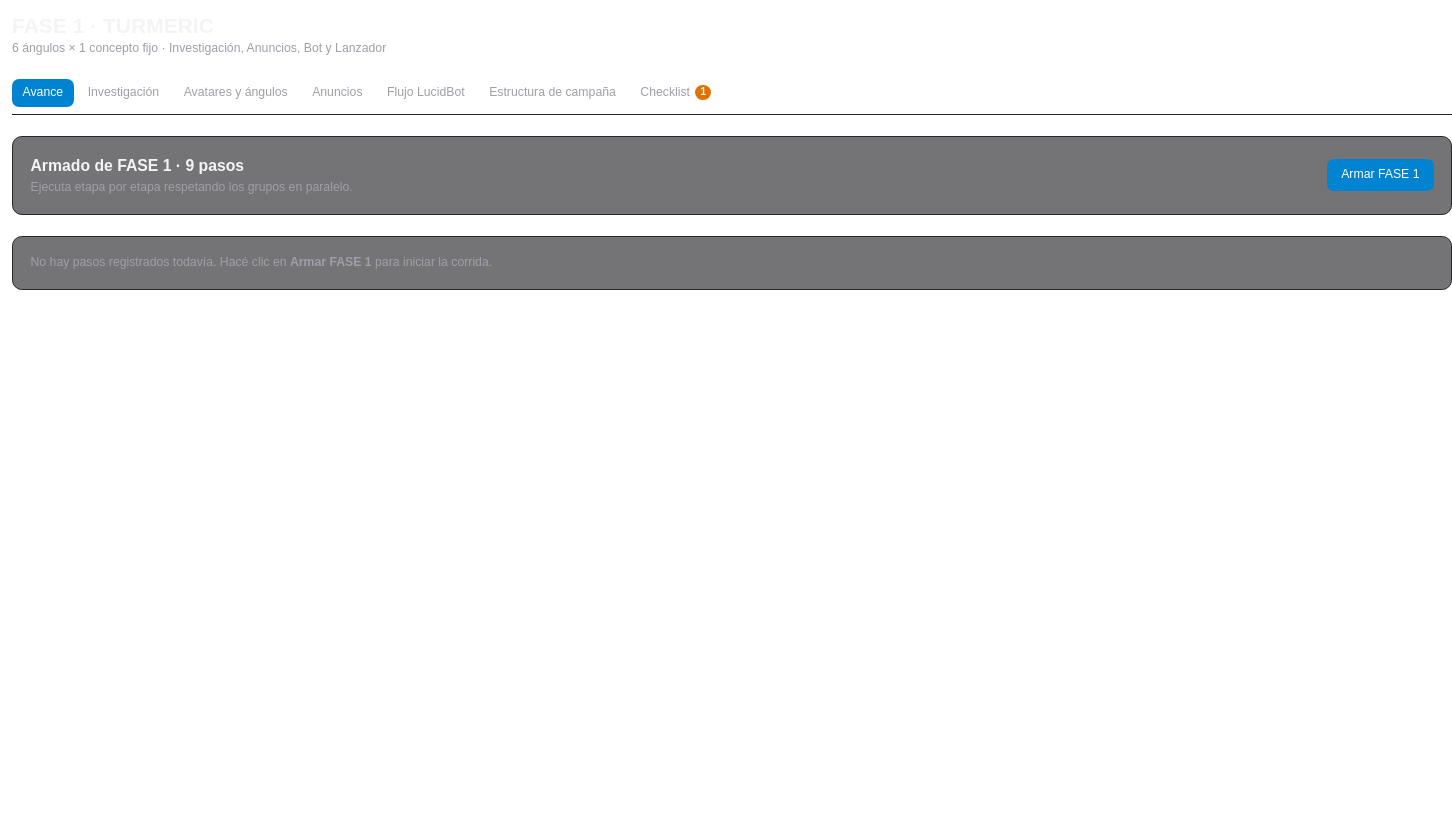
Test case: el checklist muestra un campo por cada pieza faltante
Click the button "Checklist 1": click(676, 92) [630, 78, 722, 106]
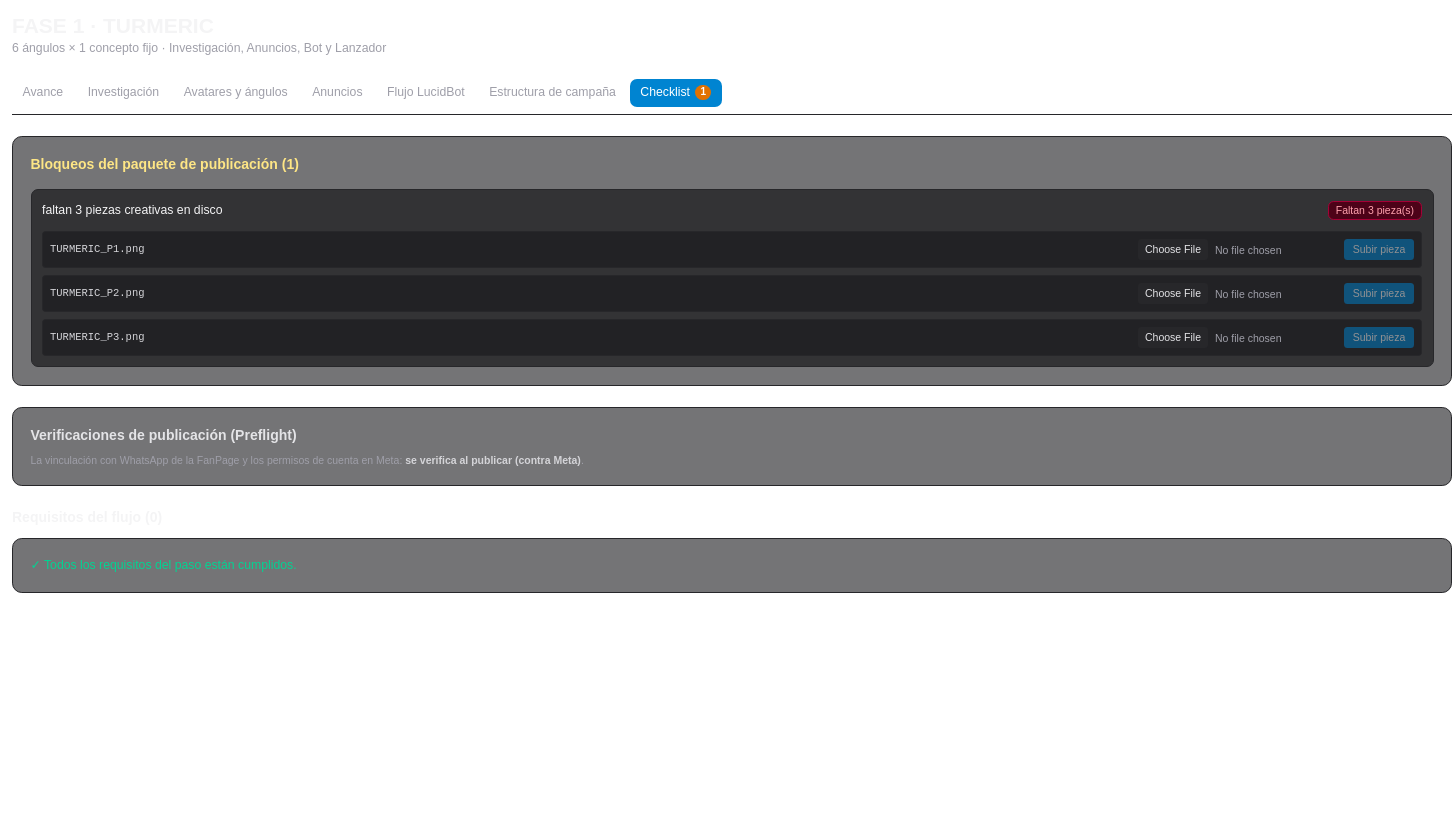
Expected: the text "faltan 3 piezas creativas en disco" is shown, [42, 202, 222, 219]
Expected: the text "TURMERIC_P1.png" is shown, [50, 242, 144, 256]
Expected: the text "TURMERIC_P2.png" is shown, [50, 286, 144, 300]
